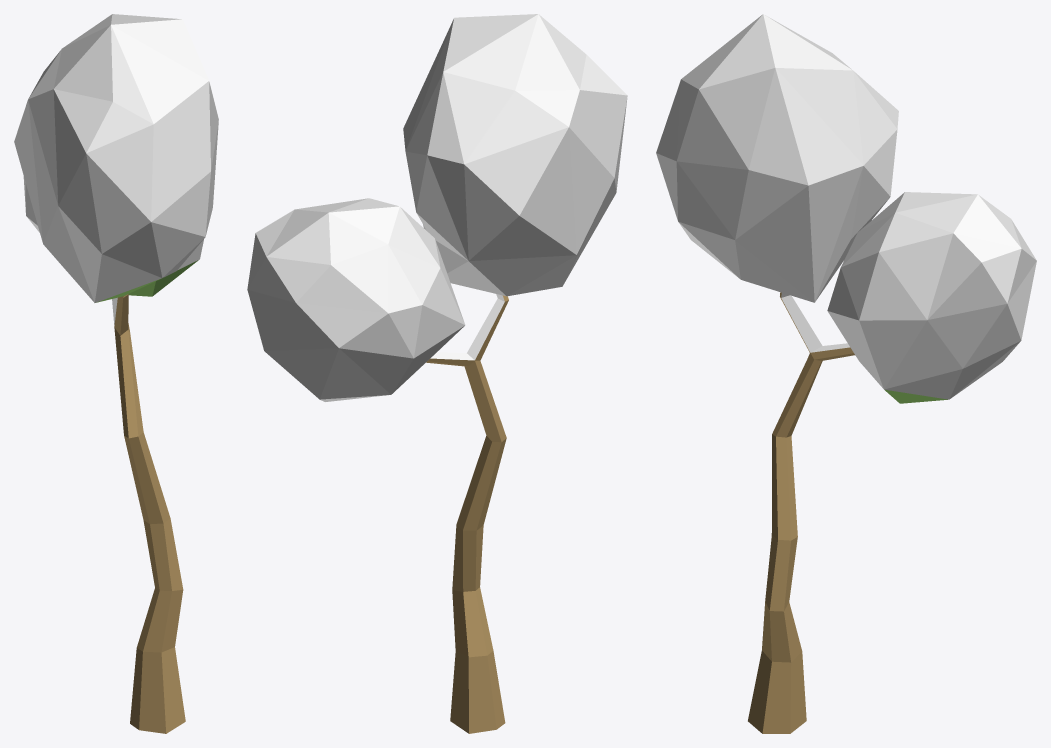
File: Oak_Tree_m_Snow_10_LOD.fbx
3 views of the same model, side by side, from view 1: azimuth 30°, elevation 25°; view 2: azimuth 150°, elevation 25°; view 3: azimuth 270°, elevation 25° (orthographic). The views are drawn at different scales.
Parts seen in each view (by area): view 1: Oak_Tree_m_Snow_10_LOD0; view 2: Oak_Tree_m_Snow_10_LOD0; view 3: Oak_Tree_m_Snow_10_LOD0.
Boxes of the visible parts, x1,y1,x2,y2 form: Oak_Tree_m_Snow_10_LOD0: [14, 14, 218, 733]; Oak_Tree_m_Snow_10_LOD0: [247, 14, 627, 733]; Oak_Tree_m_Snow_10_LOD0: [656, 14, 1036, 733].
Size of what is drawn, in the model's own units: 266 by 772 by 389.
